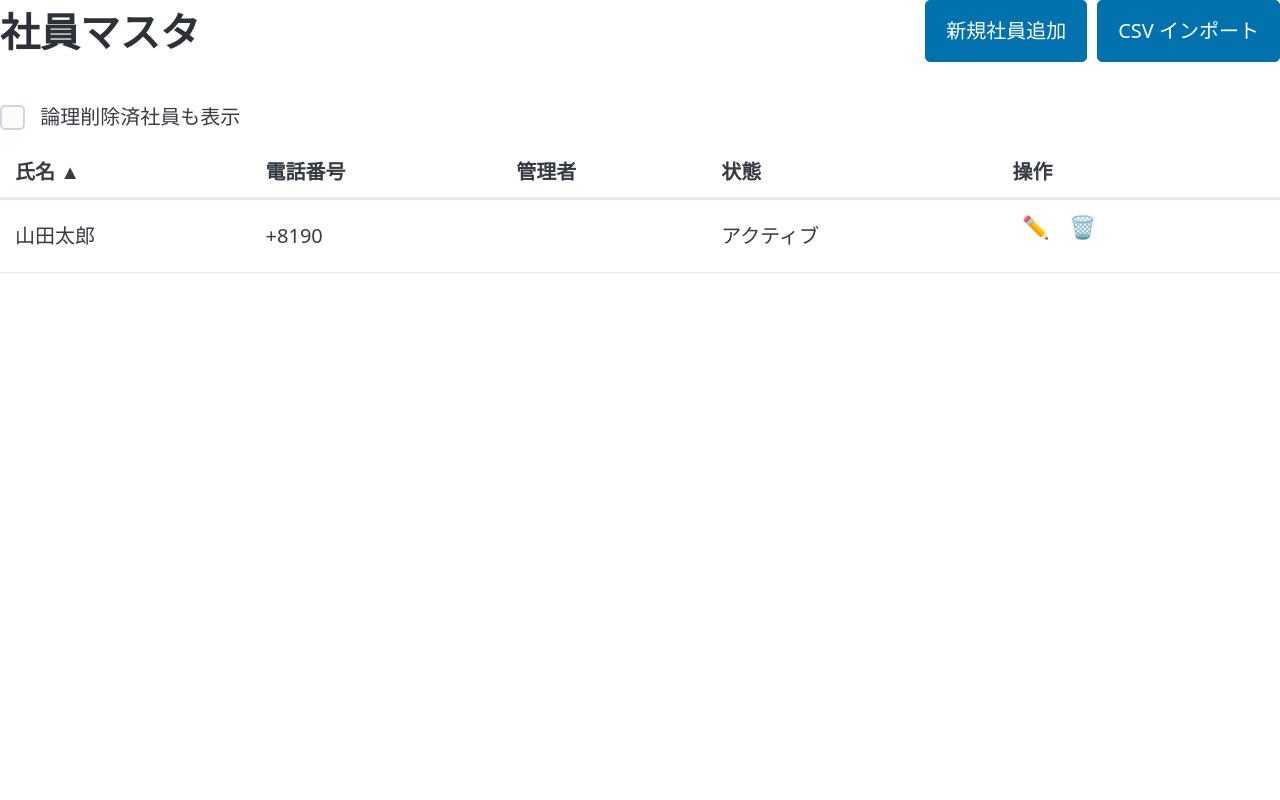
Test case: EmployeeListPage › キャンセルでダイアログが閉じ、remove は呼ばれない
Click the button named "を削除". click: {"x": 1083, "y": 226}
box: [1060,210,1106,242]
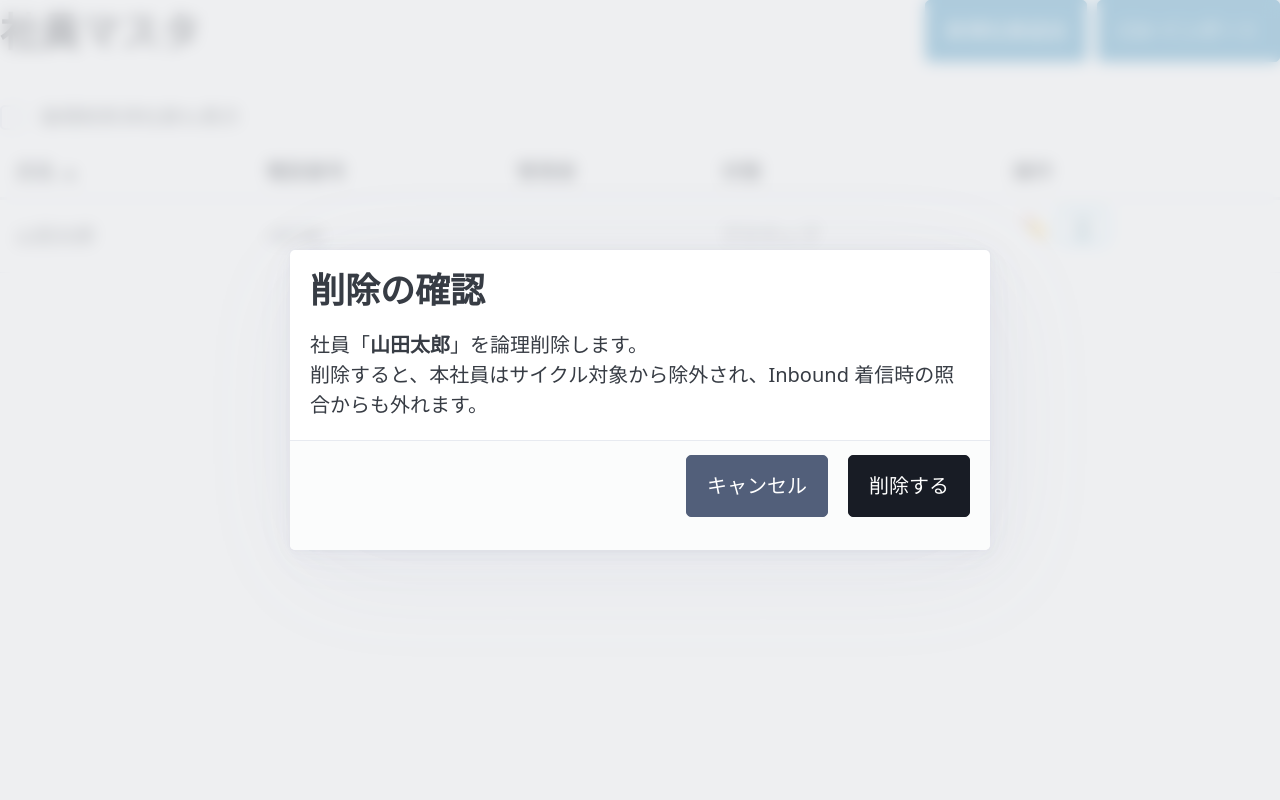
Click the button "キャンセル". click: {"x": 757, "y": 486}
box: [686,455,828,517]
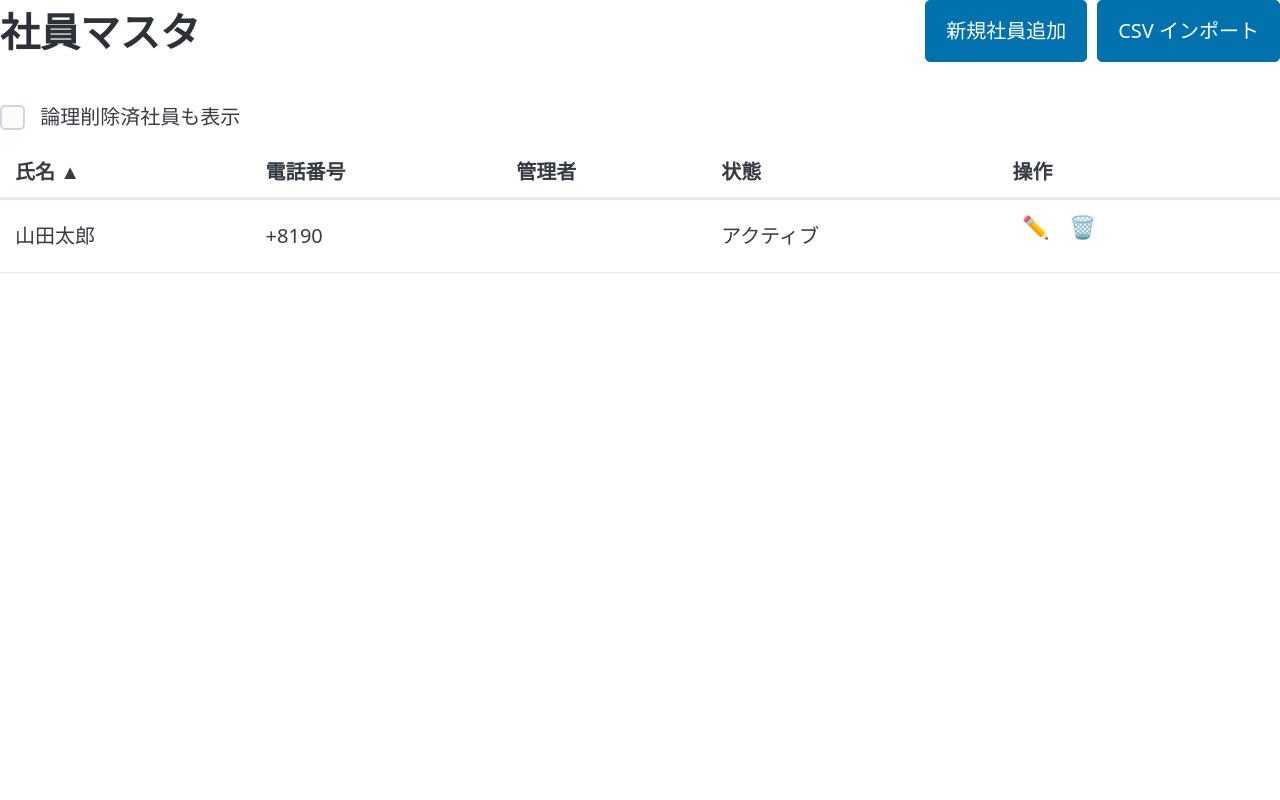
Now the dialog is gone
